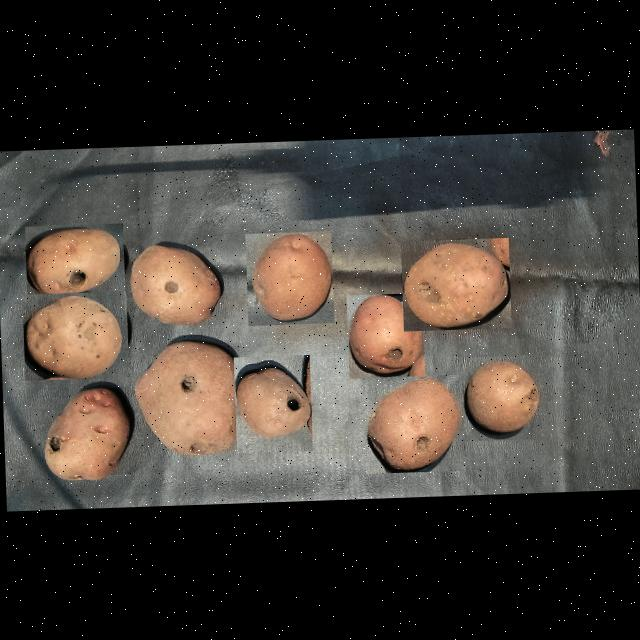Diseased-fungal potato: (132, 337, 245, 478), (401, 237, 512, 331), (362, 374, 465, 474), (36, 384, 134, 486), (22, 290, 129, 380), (125, 241, 224, 331), (245, 230, 334, 326), (234, 354, 312, 453), (24, 223, 124, 296), (462, 354, 542, 441), (346, 292, 425, 379)
